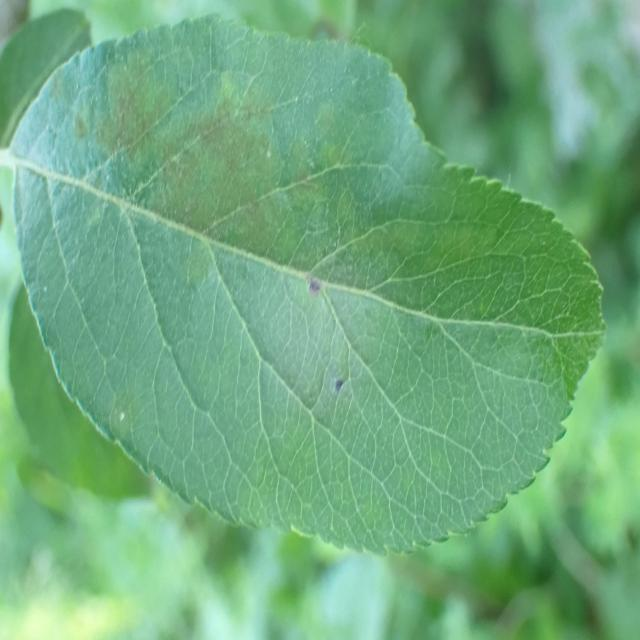scab: (44, 39, 488, 408)
